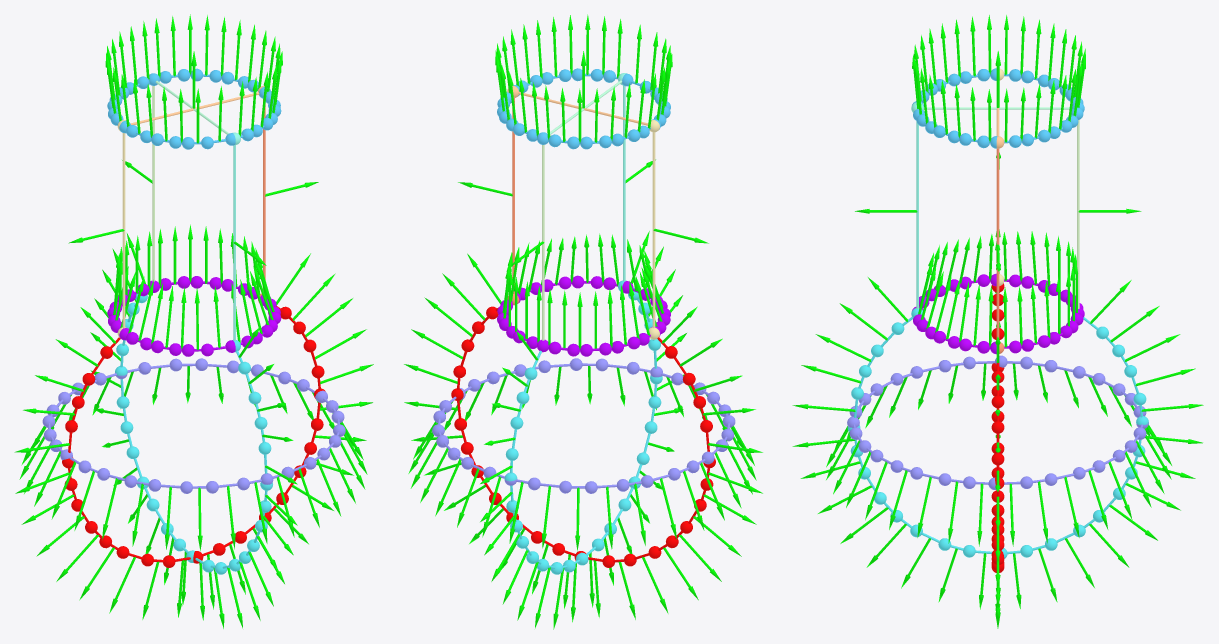
The model's file is flowrep_spherecylinder.gltf.
3 renders of one model, left to right at view 1: azimuth 30°, elevation 25°; view 2: azimuth 150°, elevation 25°; view 3: azimuth 270°, elevation 25°, orthographic.
Bounding box in the file's own units: 0.6459 × 0.9663 × 0.6459.
